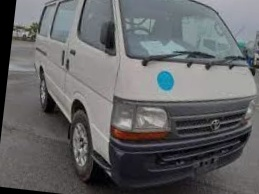van: (20, 0, 259, 194)
